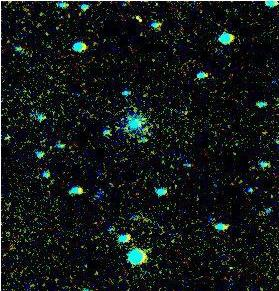star: (65, 177, 95, 207)
